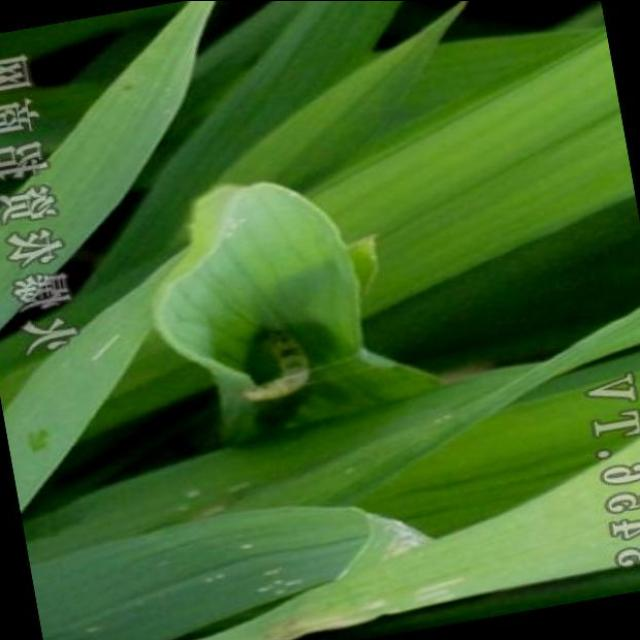leaf folder: (244, 367, 310, 402)
